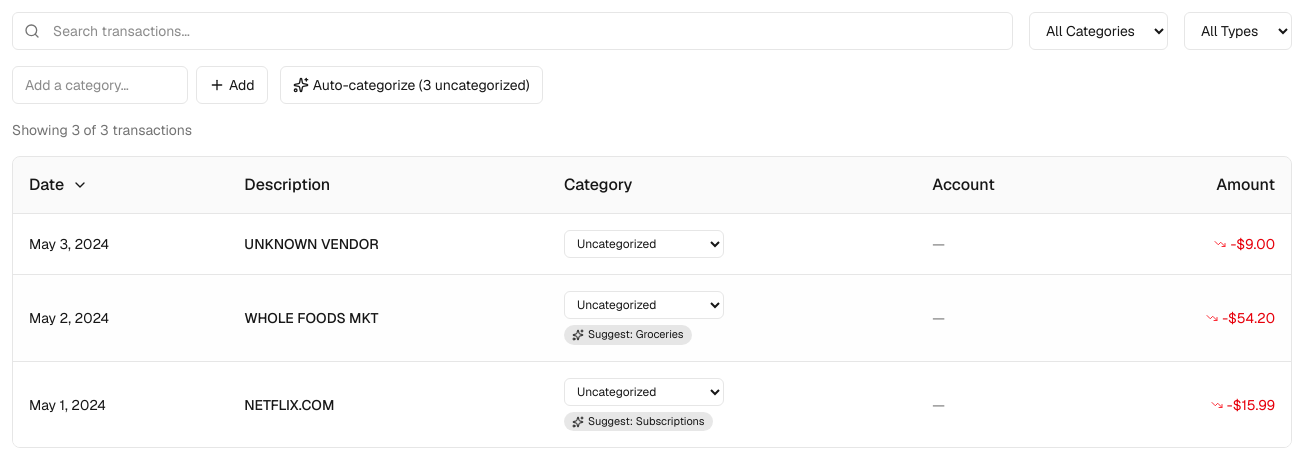
Test: TransactionTable › categorization › bulk auto-categorizes every matchable uncategorized transaction
Click the button "Auto-categorize (3 uncategorized)" at (411, 85), box [280,66,543,104]
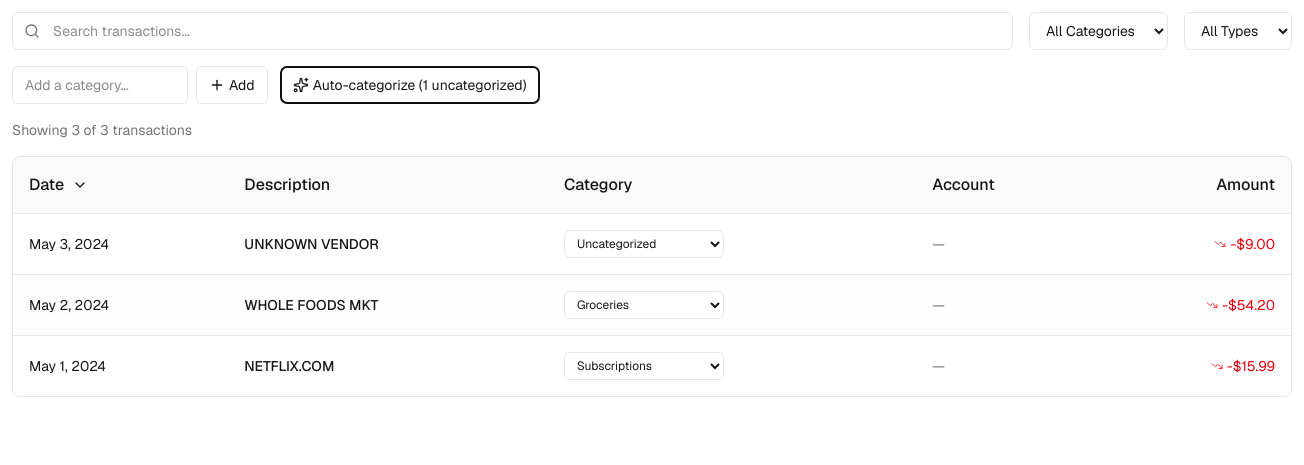
expect the dropdown named "Category for UNKNOWN VENDOR" shows "Uncategorized": met, box [564,230,724,258]
expect the dropdown named "Category for NETFLIX.COM" shows "Subscriptions": met, box [564,352,724,380]
expect the dropdown named "Category for WHOLE FOODS MKT" shows "Groceries": met, box [564,291,724,319]
